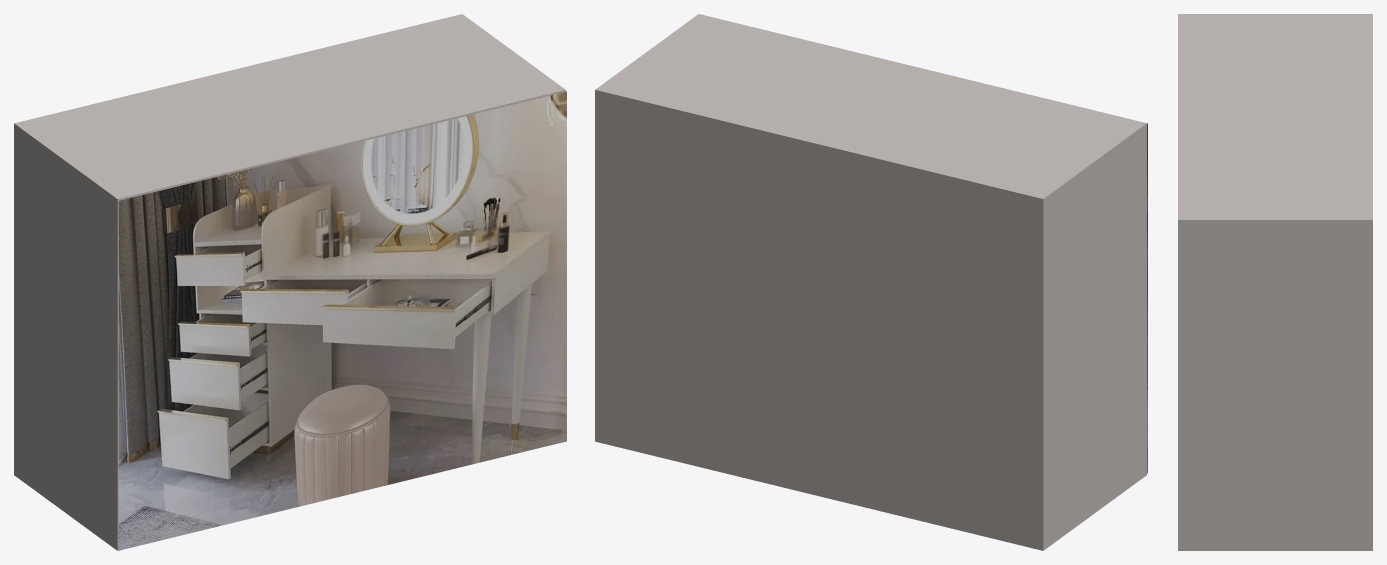
Rendered from mocan-46.glb.
The picture shows the model from 3 angles, left to right: view 1: azimuth 30°, elevation 25°; view 2: azimuth 150°, elevation 25°; view 3: azimuth 270°, elevation 25°; orthographic projection. The views are drawn at different scales.
Visible parts, largest first — view 1: furniture; view 2: furniture; view 3: furniture.
Part boxes in pixels (bbox=[...]): furniture: bbox=[14, 14, 566, 550]; furniture: bbox=[595, 14, 1147, 550]; furniture: bbox=[1178, 14, 1372, 550].
Bounding box in the file's own units: 1 × 0.75 × 0.404.
Materials: 2 (1 with a texture image).
